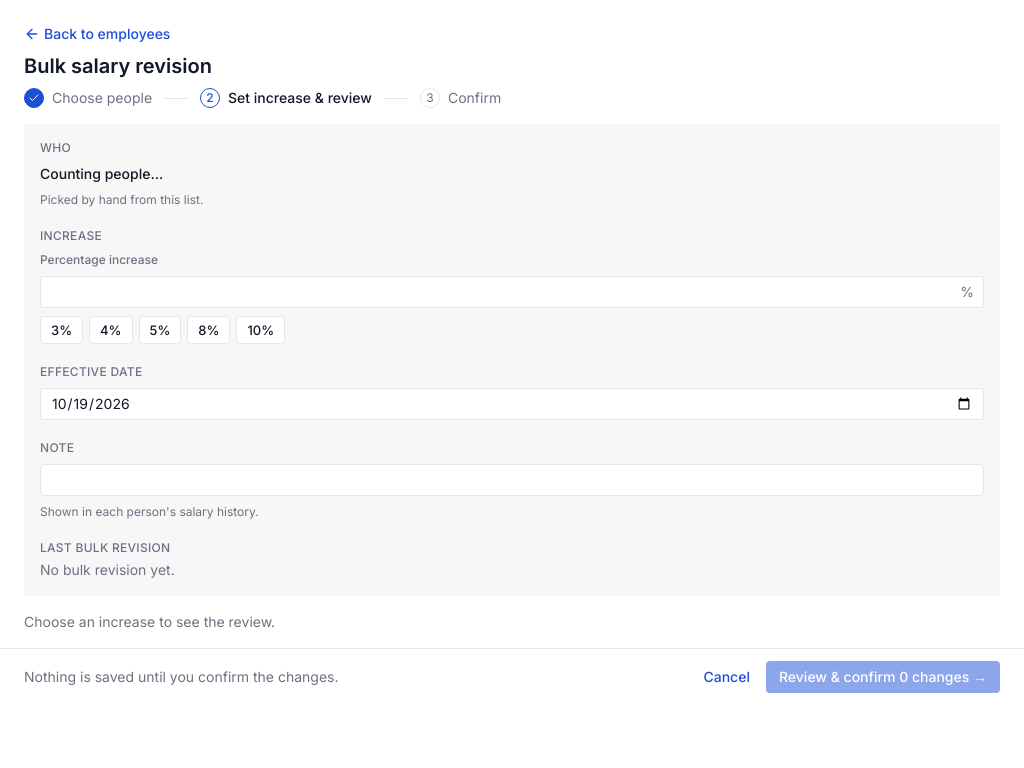
Test: BulkRevisionPage review › formats the new salary, marks an edit and undoes it
Type "7" into the field labelled "Percentage increase".
click(512, 292); type("7")  # box [40, 276, 984, 308]
(page scrolled)
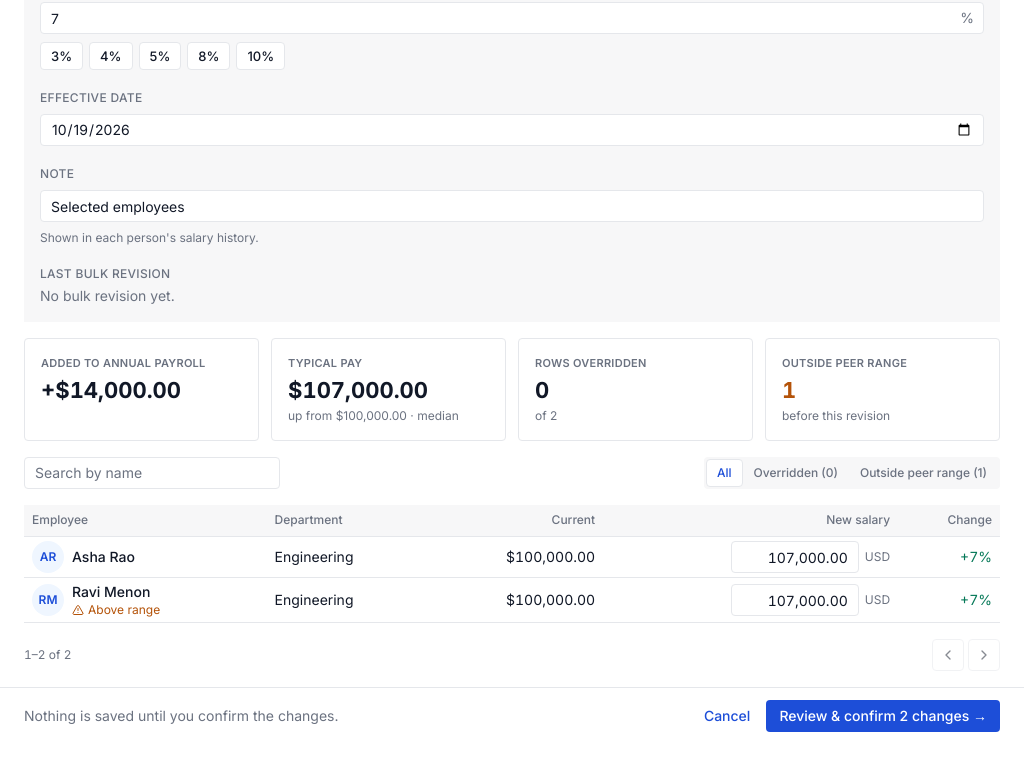
Now the field named "New salary for Ravi Menon" holds "107,000.00"
Replace the text in the field named "New salary for Ravi Menon" with "110000" at (795, 600), box [731, 584, 859, 616]
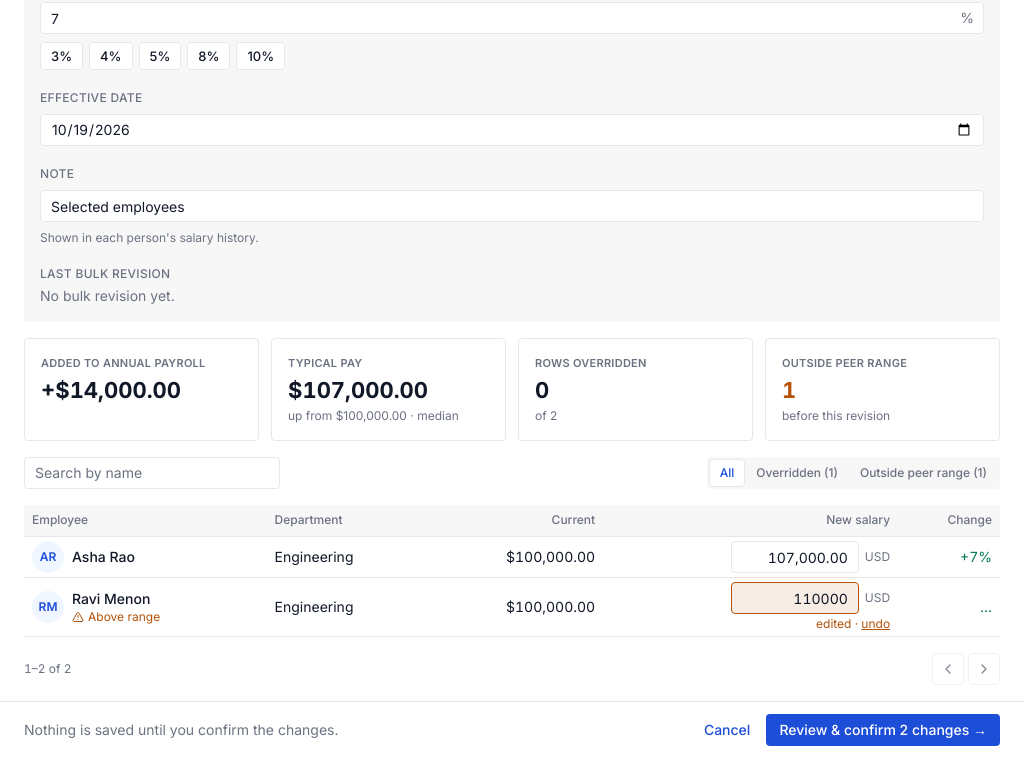
Leave the field named "New salary for Ravi Menon", box [731, 582, 859, 614]
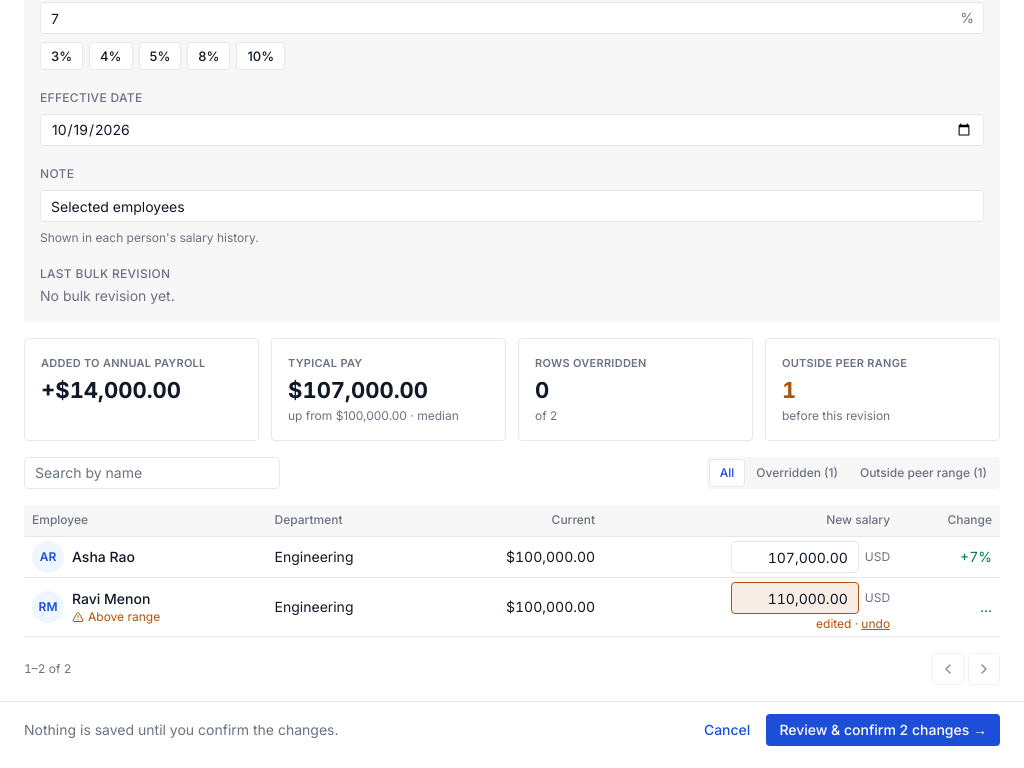
Now the field named "New salary for Ravi Menon" holds "110,000.00", box [731, 582, 859, 614]
Click the button with aria-label "Undo edit for Ravi Menon".
click(876, 624)  # box [861, 616, 890, 632]
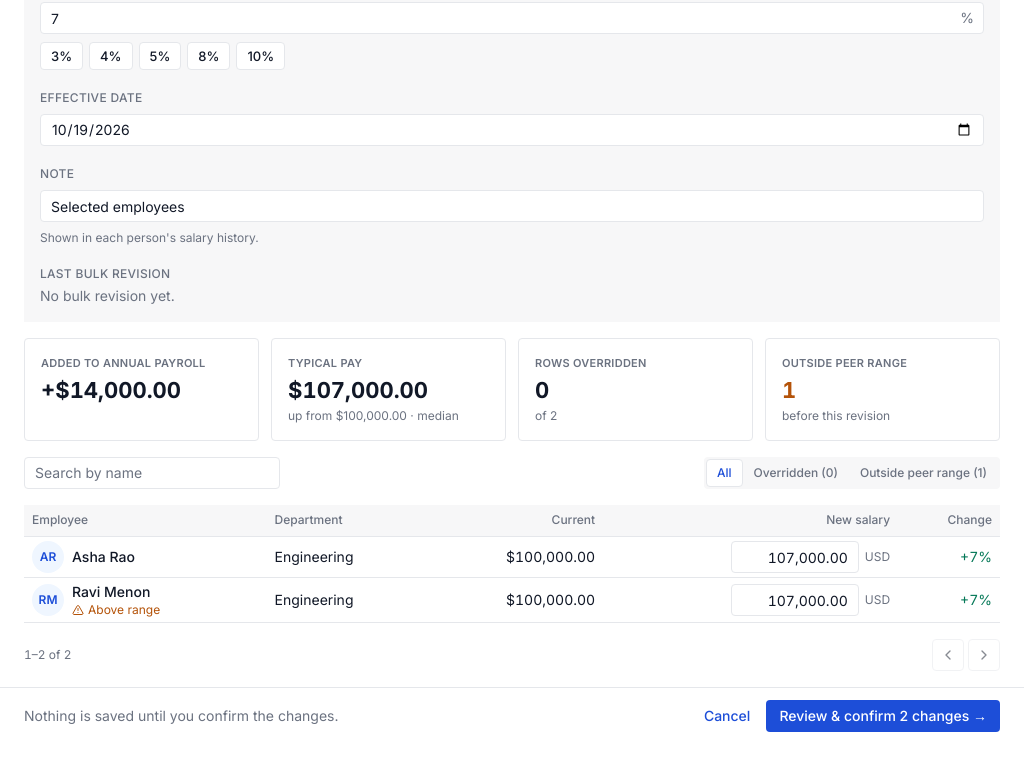
Now the field named "New salary for Ravi Menon" holds "107,000.00", box [731, 584, 859, 616]
